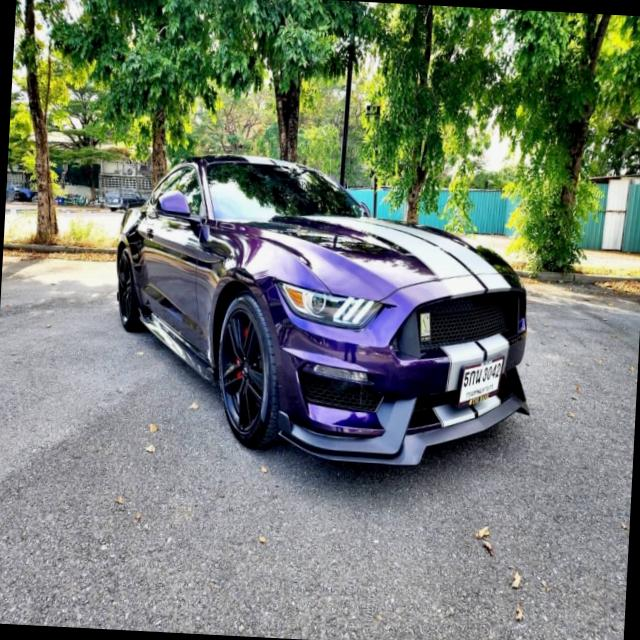license_plate: (456, 356, 509, 418)
